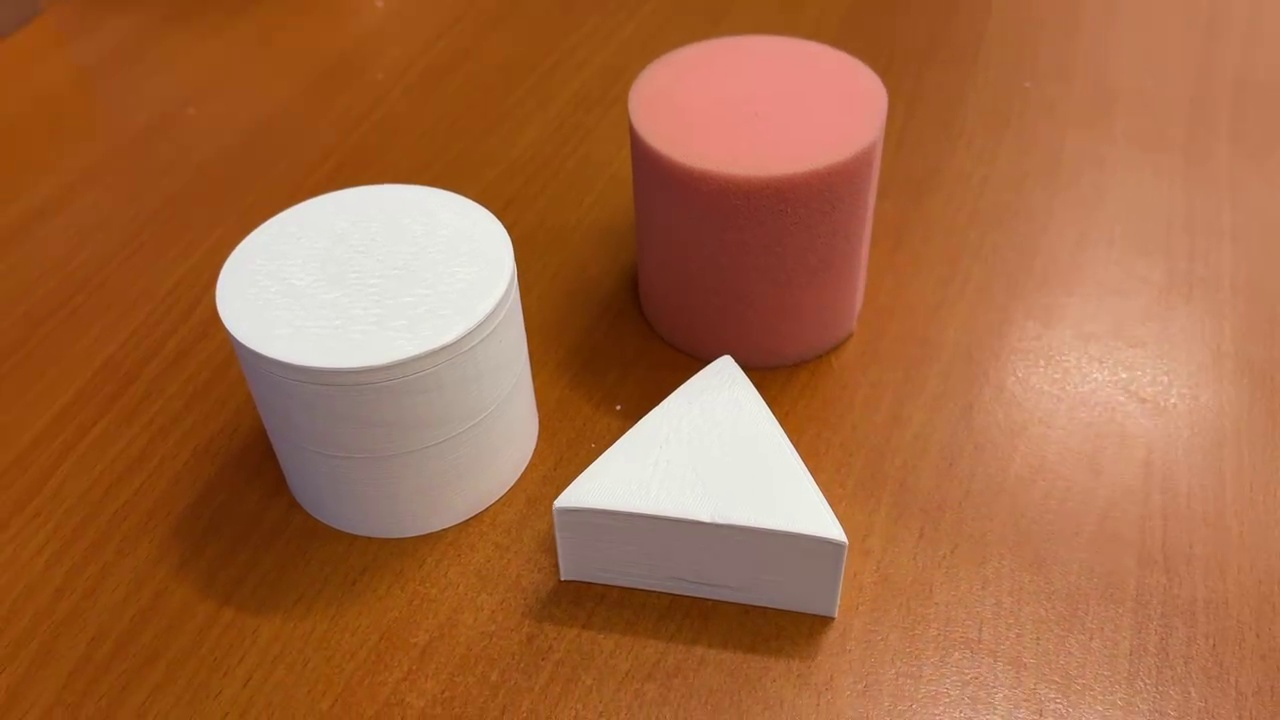Cylinder: (214, 172, 542, 550), (613, 26, 896, 376)
Triangle_short: (548, 346, 852, 626)
